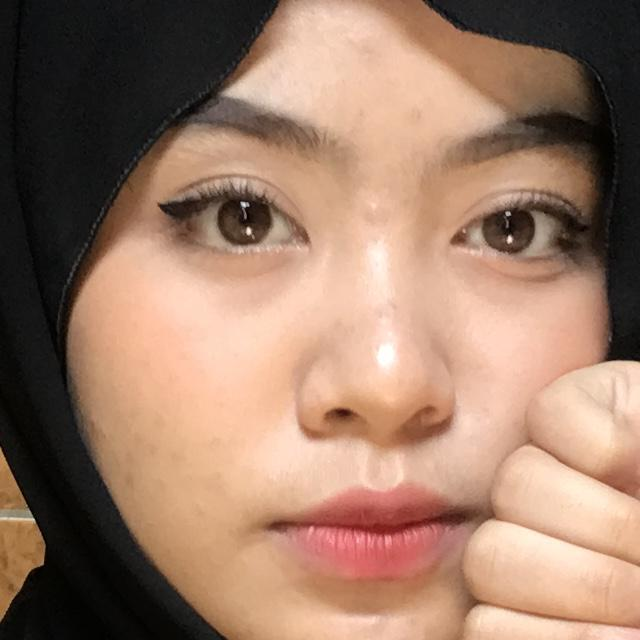sedih: (350, 256, 640, 640)
